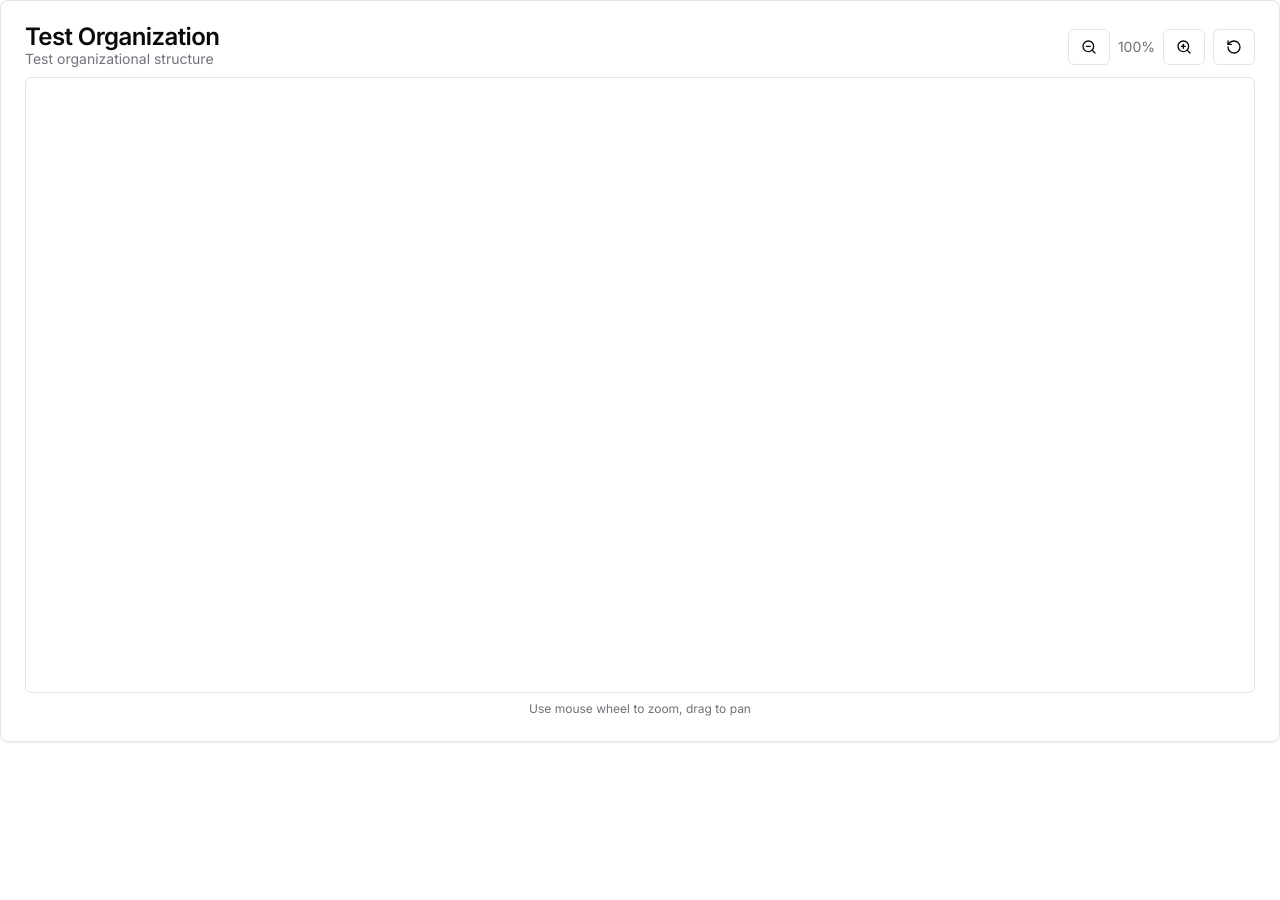
Test: OrgChartViewer › Zoom functionality › increases zoom when zoom in button is clicked
The image size is (1280, 900).
Click the button named "Zoom in" at (1184, 47), box [1163,29,1205,65]
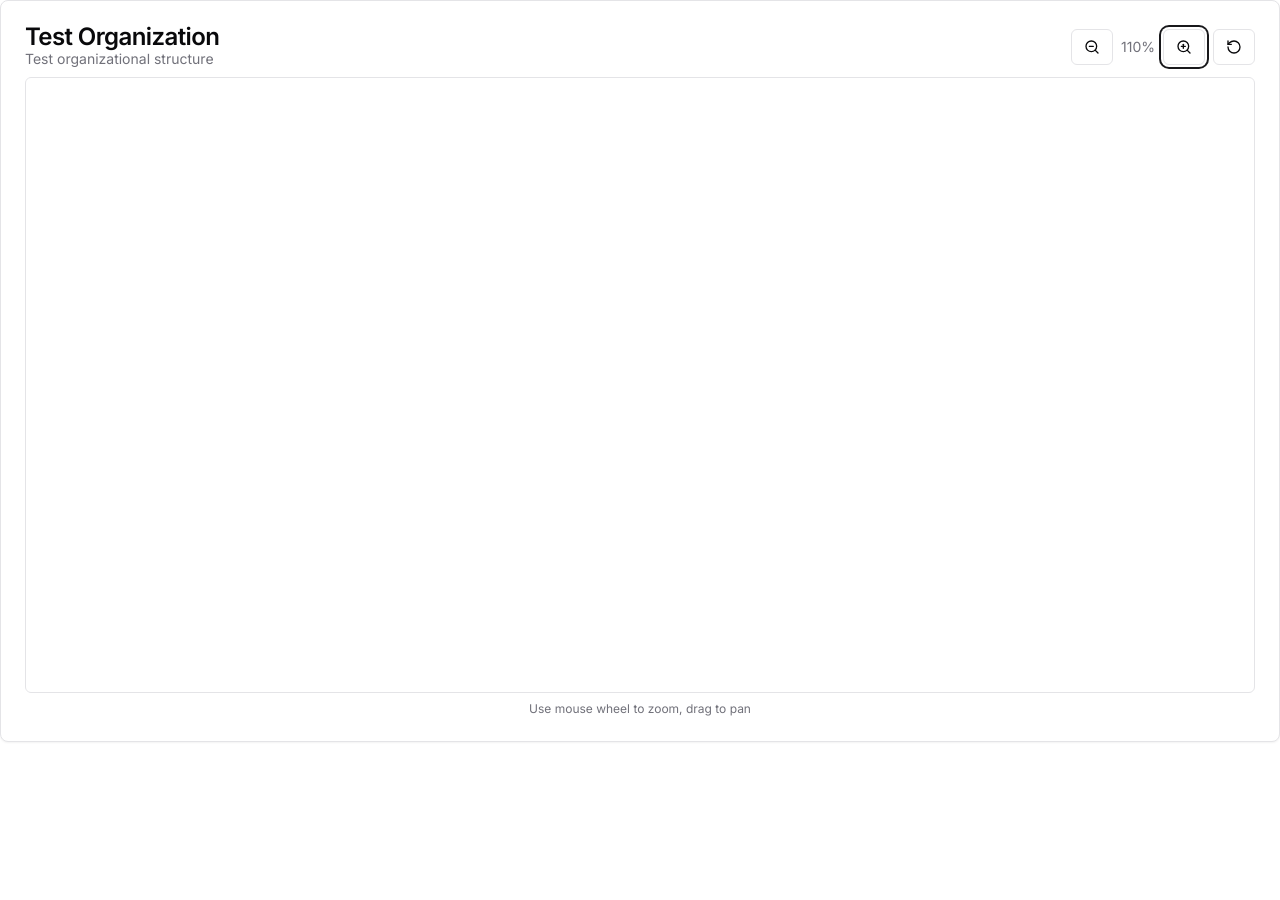
Check: the text "110%" is shown, box [1121,37,1155,57]
